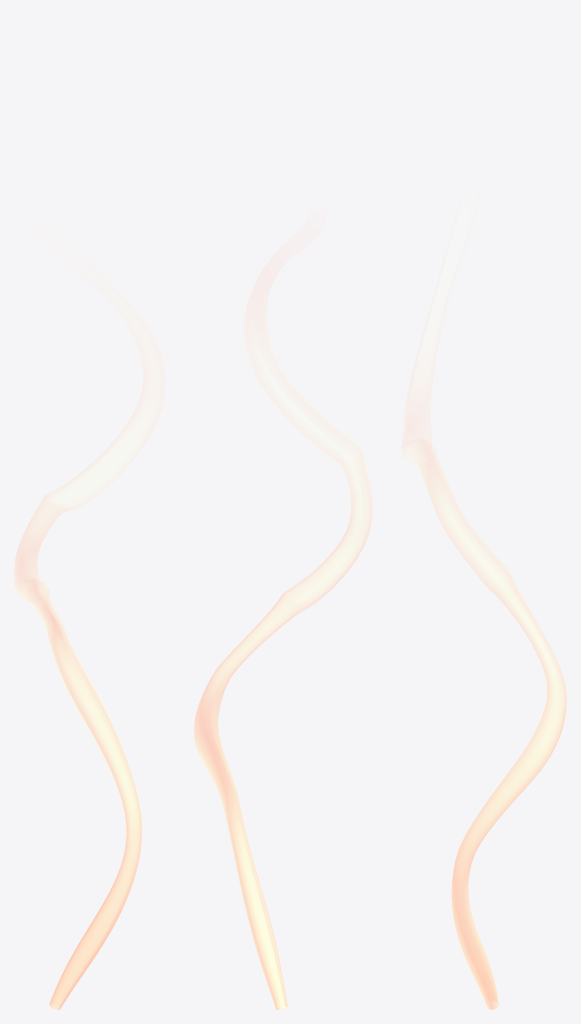
Rendered from strand_d_danger.glb.
3 renders of one model, left to right at view 1: azimuth 30°, elevation 25°; view 2: azimuth 150°, elevation 25°; view 3: azimuth 270°, elevation 25°, orthographic.
Size of the model in its own units: 1.29 by 9.03 by 1.36.
